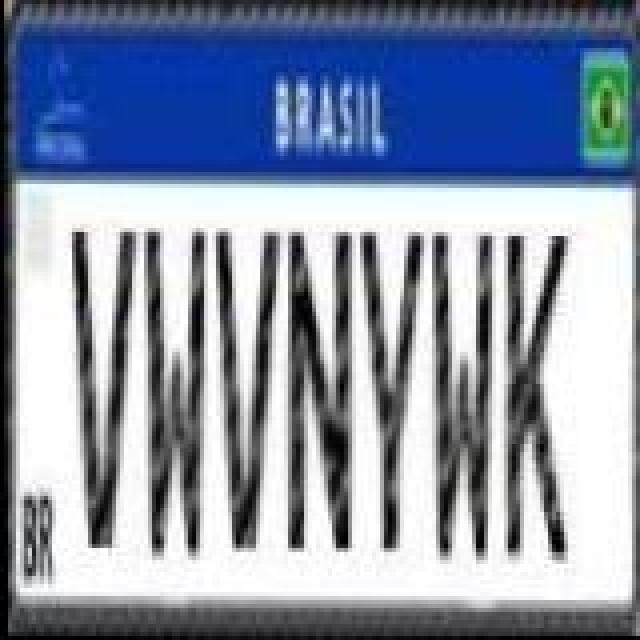K: (498, 232, 570, 568)
N: (280, 222, 356, 558)
V: (64, 226, 140, 550), (208, 226, 284, 550)
W: (134, 230, 206, 566), (422, 232, 494, 568)
Y: (354, 230, 426, 554)
